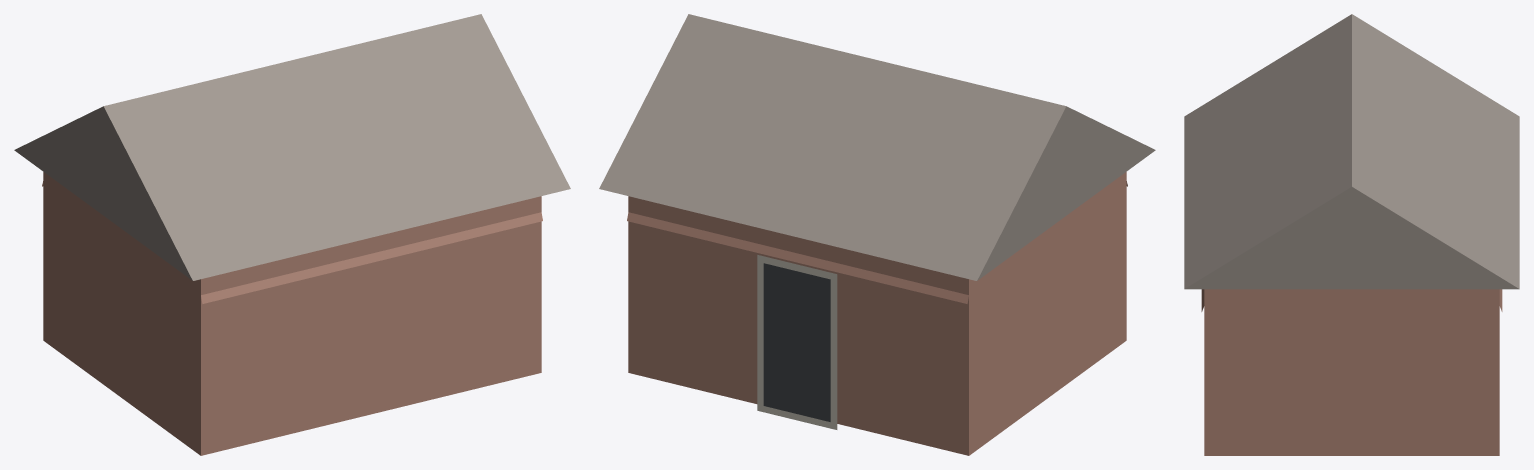
File: fort_dearborn_magazine__brick_1816.glb
3 views of the same model, side by side, from view 1: azimuth 30°, elevation 25°; view 2: azimuth 150°, elevation 25°; view 3: azimuth 270°, elevation 25° (orthographic). The views are drawn at different scales.
Parts seen in each view (by area): view 1: fort_dearborn_magazine__brick_1816; view 2: fort_dearborn_magazine__brick_1816; view 3: fort_dearborn_magazine__brick_1816.
Boxes of the visible parts, left/top/right/bottom form: fort_dearborn_magazine__brick_1816: left=14, top=14, right=570, bottom=455; fort_dearborn_magazine__brick_1816: left=599, top=14, right=1155, bottom=455; fort_dearborn_magazine__brick_1816: left=1184, top=14, right=1519, bottom=455.
Bounding box in the file's own units: 5.07 × 3.87 × 4.16.
